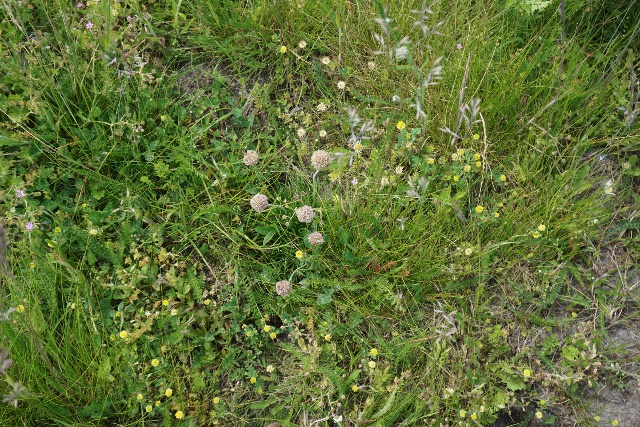armeria-maritima: (236, 140, 345, 298)
